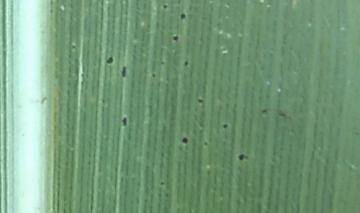tarspot: (116, 65, 132, 80), (235, 151, 251, 165), (102, 54, 116, 68), (177, 10, 190, 24), (179, 133, 191, 148), (180, 56, 191, 72), (170, 30, 182, 44), (257, 106, 270, 118), (119, 115, 130, 129), (277, 109, 289, 121), (219, 120, 231, 131), (160, 2, 172, 13), (148, 70, 160, 81), (194, 95, 207, 105), (200, 139, 211, 149), (155, 179, 166, 188)
